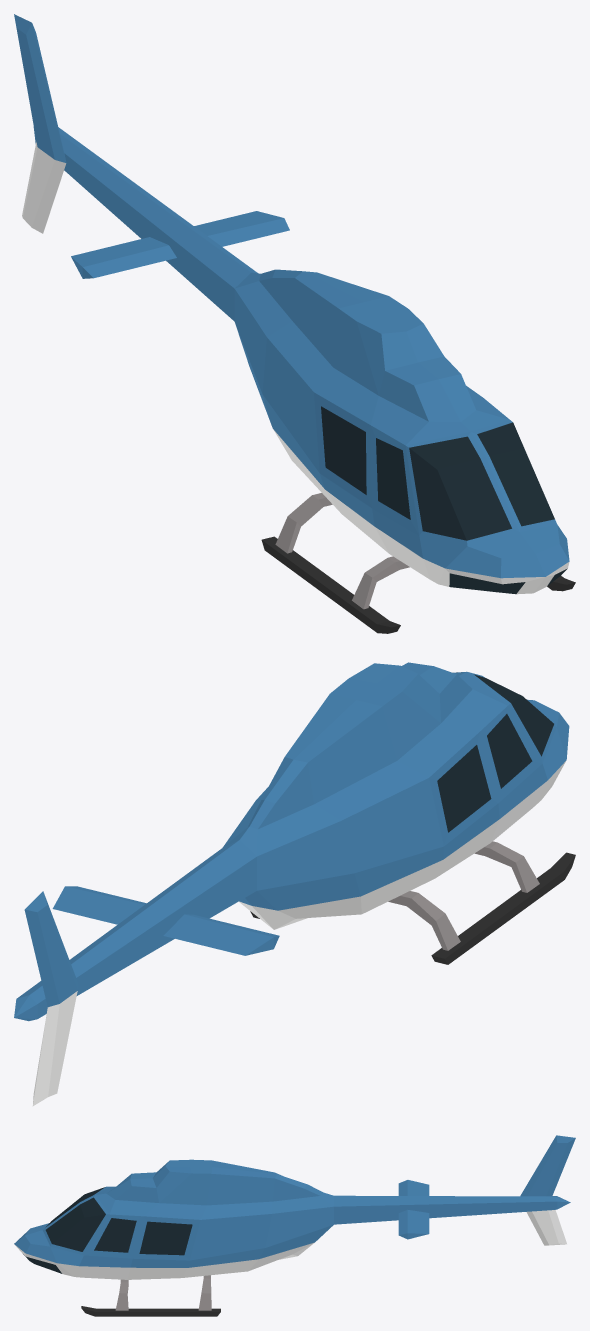
Rendered from helicopter-base.glb.
3 renders of one model, top to bottom at view 1: azimuth 30°, elevation 25°; view 2: azimuth 150°, elevation 25°; view 3: azimuth 270°, elevation 25°, orthographic. The views are drawn at different scales.
Visible parts, largest first — view 1: helicopter-base; view 2: helicopter-base; view 3: helicopter-base.
Boxes of the visible parts, <box> form: helicopter-base: <box>14,14,575,633</box>; helicopter-base: <box>14,662,575,1106</box>; helicopter-base: <box>14,1135,575,1316</box>.
Bounding box in the file's own units: 2.06 × 2.74 × 9.17.
Materials: 1 (1 with a texture image).
